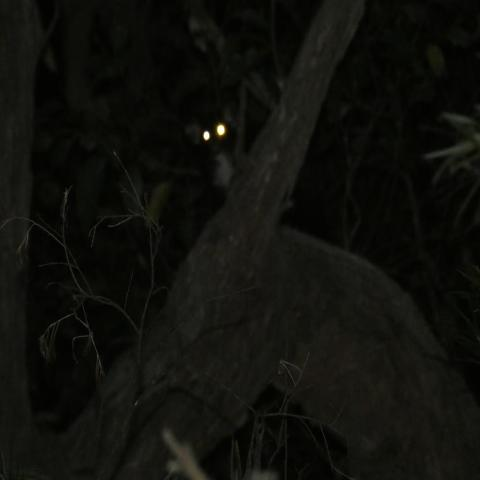small_animal: (181, 106, 255, 259)
